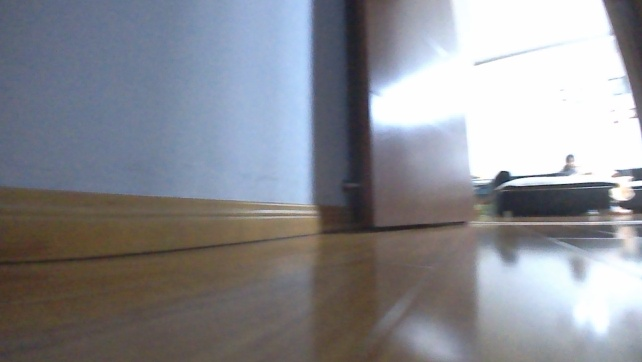door: (353, 0, 476, 231)
sofe1: (488, 169, 620, 215)
